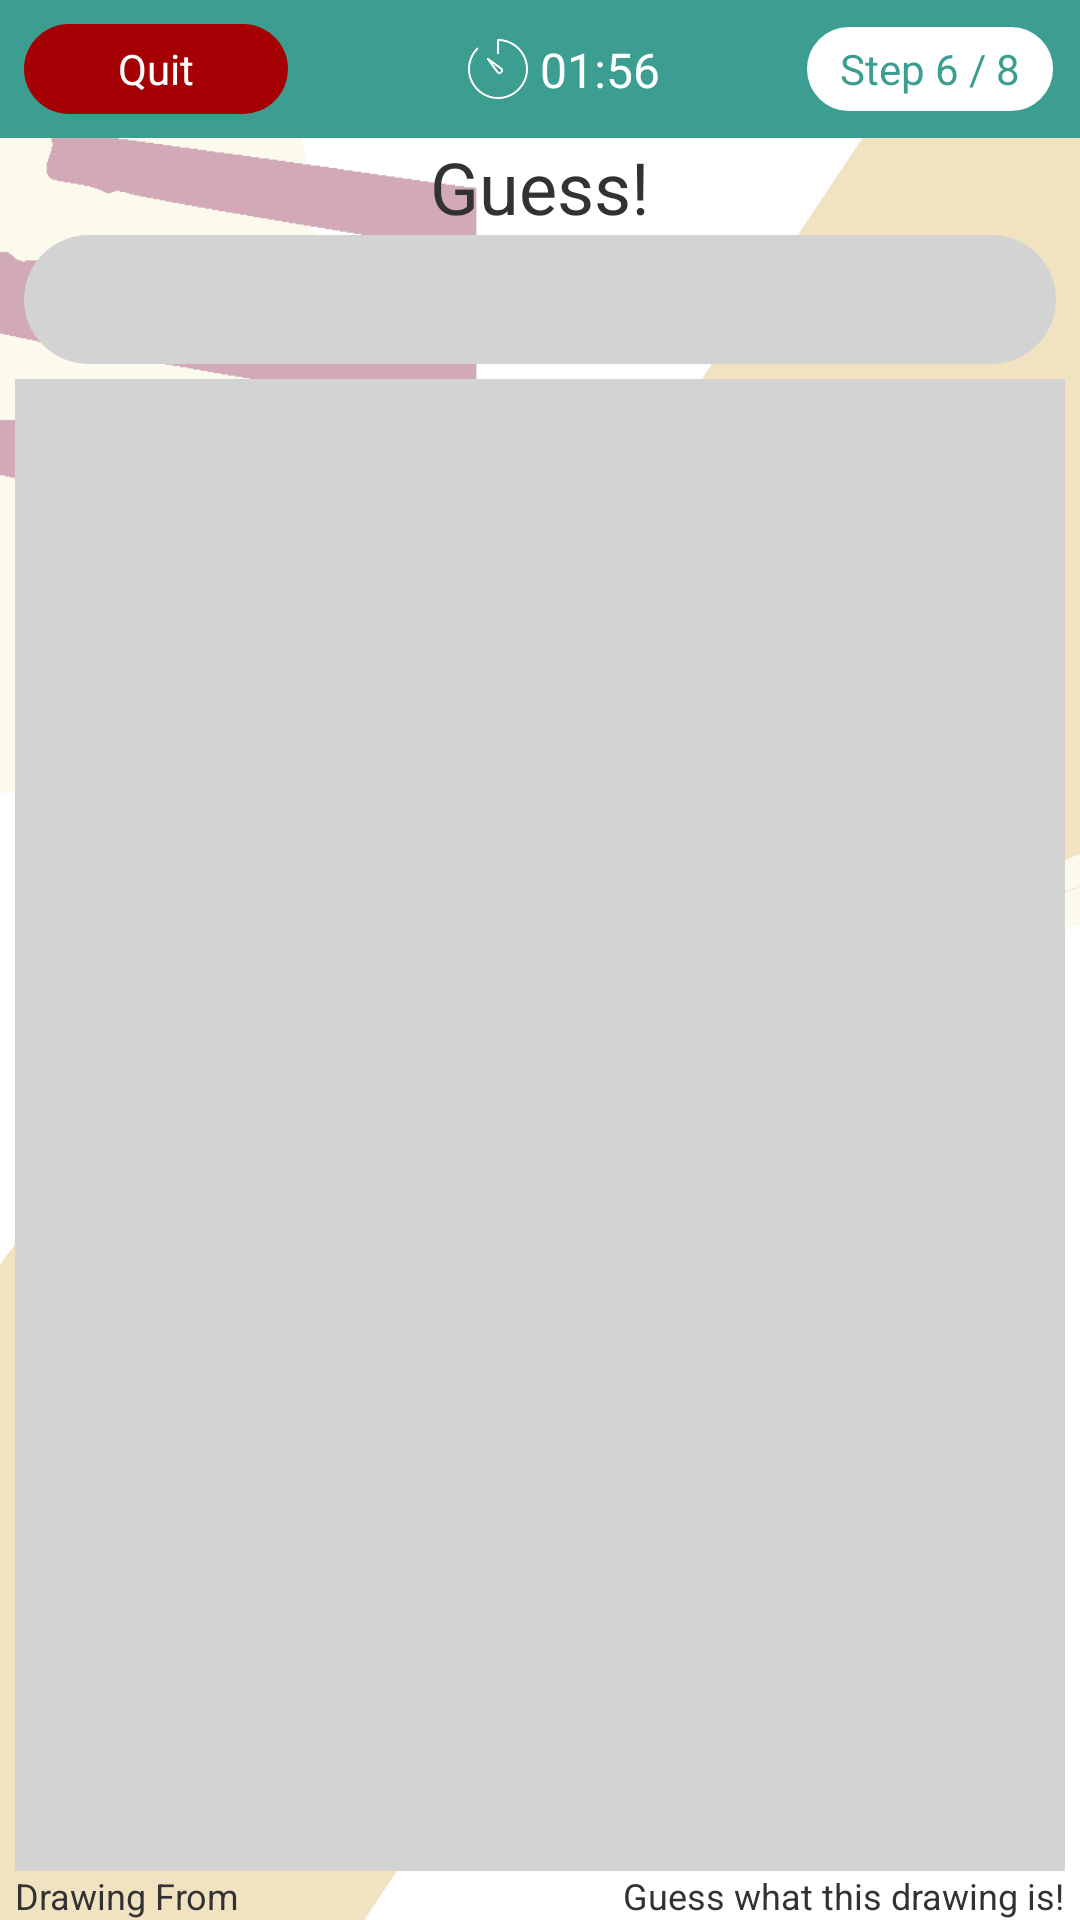

Where icons sit on this 1080×1920 app screen, as region(x1, y1, x2, y2):
timer: region(468, 39, 528, 99)
